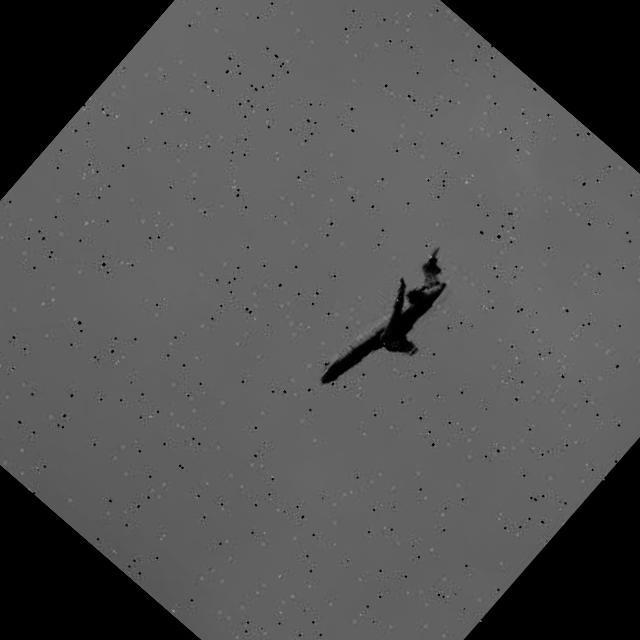aeroplane: (313, 242, 480, 420)
